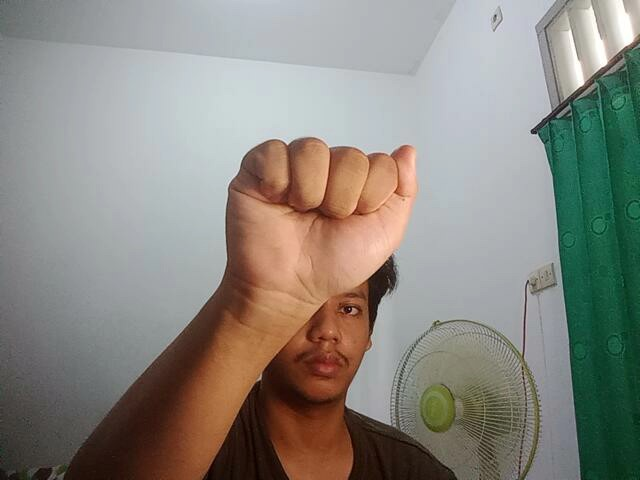A: (213, 128, 424, 316)
